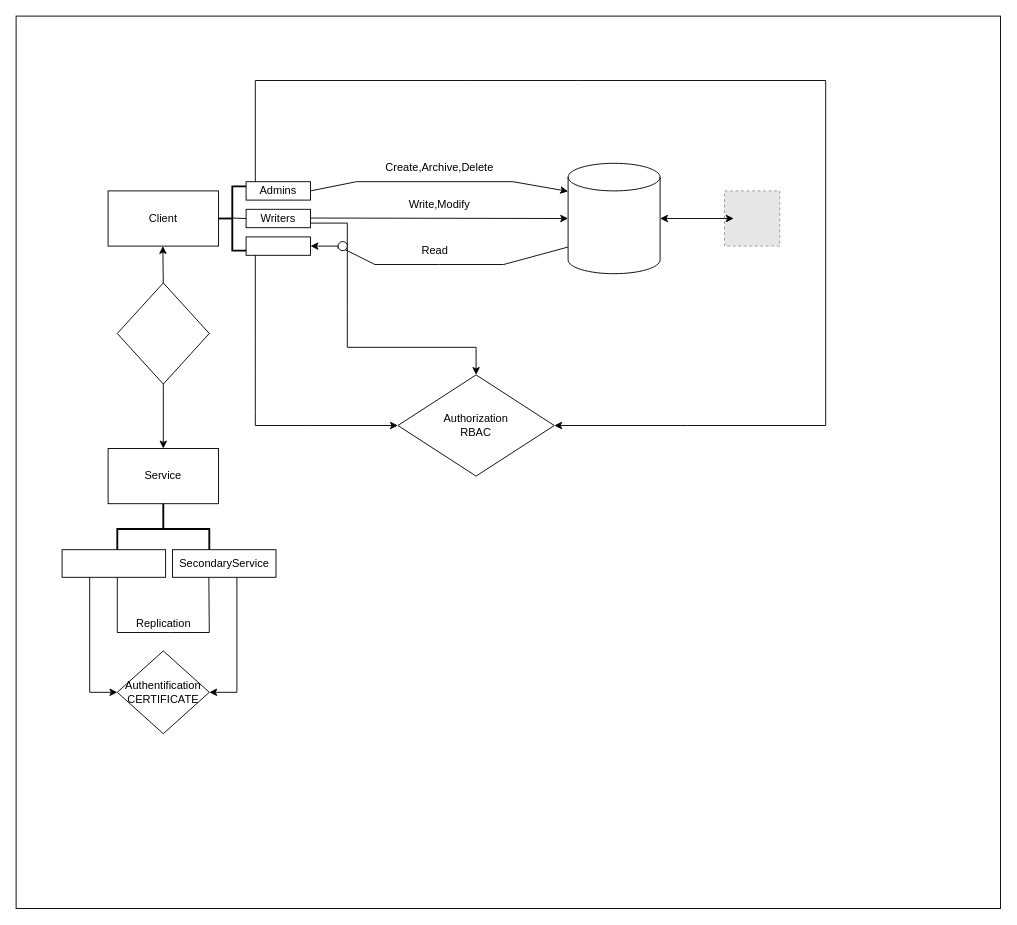
This 1017x925 diagram has some shape labels left out. Grey dashed boxes stand in for pictures. The shapes that lost their labels are listed below. From the top down, each one's box as (x1, y1, x2, y2) in pixels, then its label:
(567, 162, 660, 274): Data Base
(245, 236, 310, 255): Readers
(116, 282, 209, 384): Authentification WINDOWS
(61, 549, 166, 577): PrimaryService
